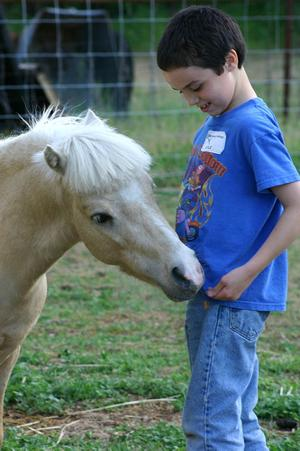person: (157, 5, 300, 450)
